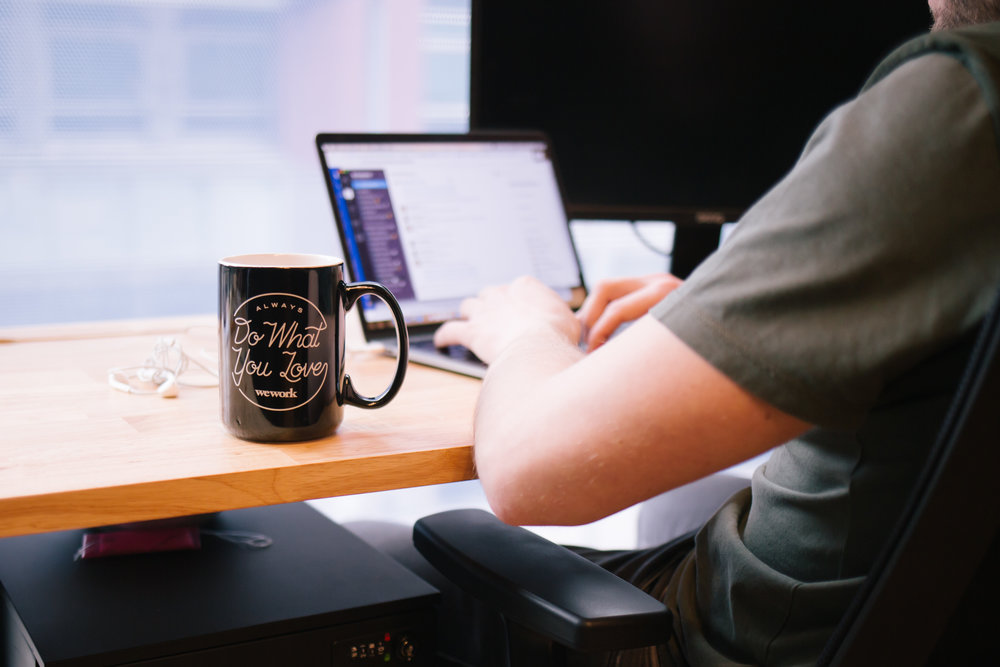wework: (250, 386, 303, 400)
